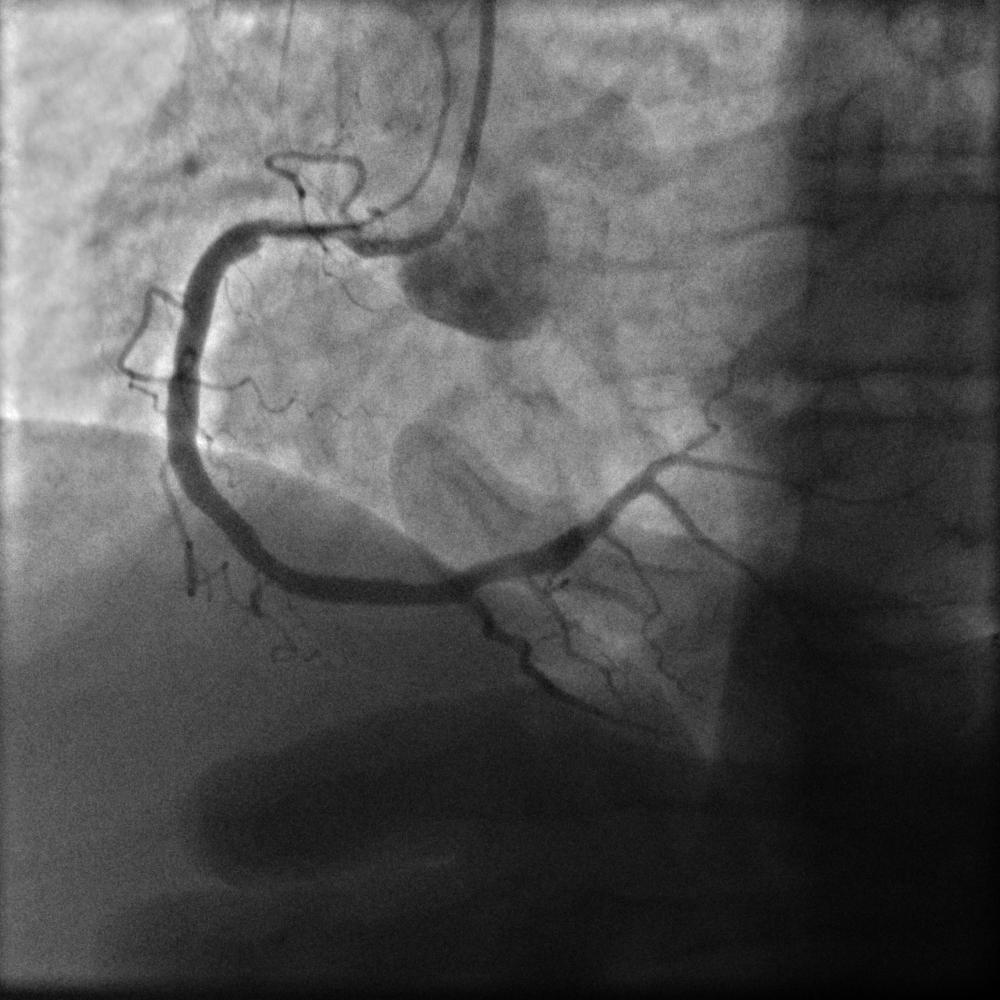Stenosis: (248, 207, 342, 251)
